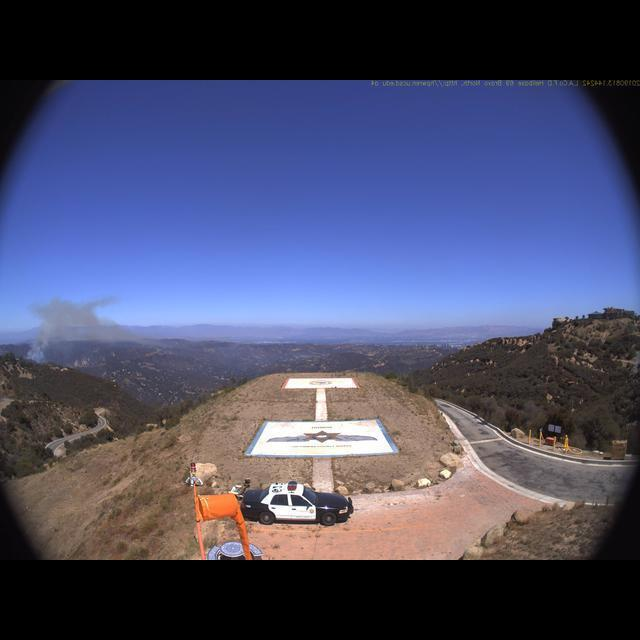Smoke: (26, 290, 137, 365)
